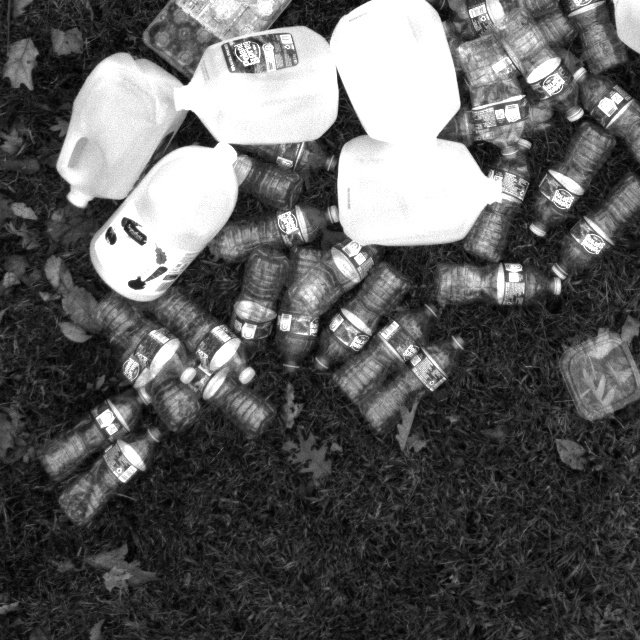bottle: (349, 325, 470, 436), (301, 258, 407, 376), (142, 283, 261, 386), (39, 385, 154, 486), (85, 290, 199, 390), (52, 428, 165, 526), (161, 348, 279, 441), (337, 304, 442, 408), (494, 8, 586, 126), (525, 125, 619, 239), (543, 179, 640, 282), (107, 335, 204, 437), (279, 231, 386, 322), (452, 32, 527, 161), (463, 137, 534, 265), (562, 62, 640, 178), (208, 200, 342, 264), (426, 256, 568, 312), (228, 246, 287, 365), (275, 242, 325, 379), (549, 0, 636, 78), (221, 124, 339, 180), (217, 155, 306, 212)
can: (81, 137, 247, 308), (47, 47, 194, 212), (332, 130, 514, 258), (325, 0, 473, 155), (165, 24, 351, 146)
container: (151, 0, 329, 87), (554, 329, 640, 422)
